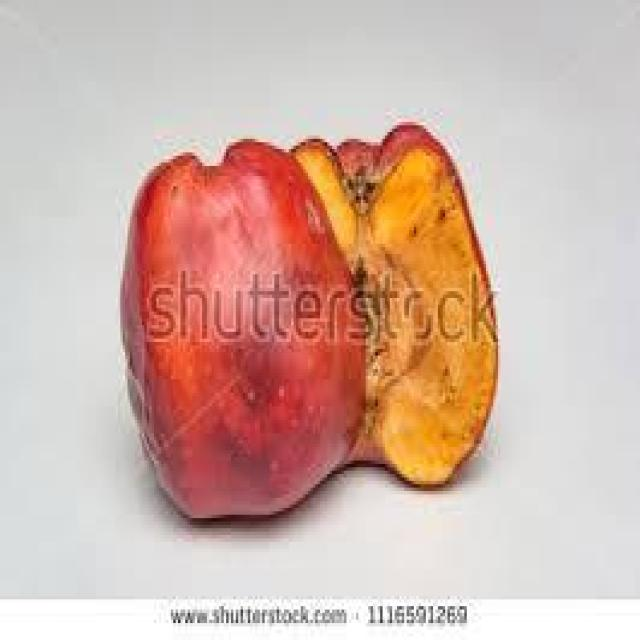maca: (118, 119, 498, 522)
